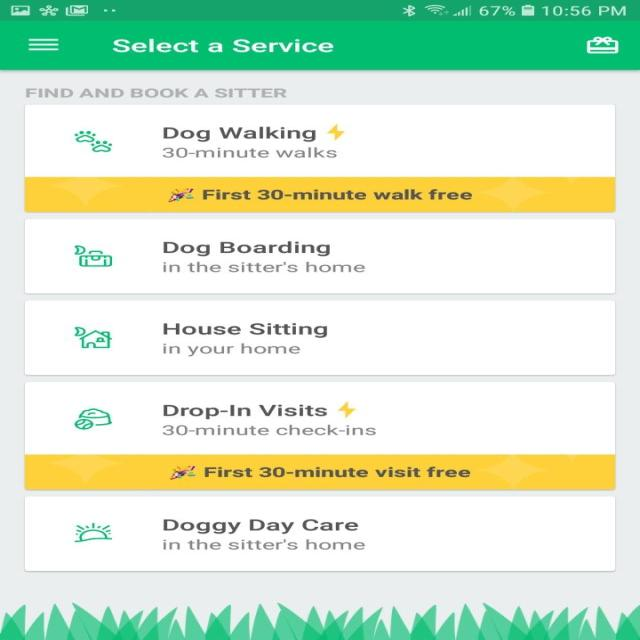Icon: (74, 326, 112, 348), (75, 244, 113, 266), (585, 36, 618, 54), (27, 38, 59, 51)
Image: (0, 602, 639, 639), (74, 130, 113, 152), (72, 521, 112, 542), (74, 408, 112, 430), (168, 466, 196, 480), (167, 188, 194, 202), (336, 401, 356, 418), (326, 124, 344, 140)
Text: (202, 188, 472, 200), (162, 518, 358, 534), (112, 39, 334, 53), (204, 467, 471, 478), (162, 322, 328, 338), (25, 88, 287, 98), (162, 241, 330, 256), (162, 404, 328, 419), (162, 126, 316, 142), (162, 261, 366, 273), (162, 538, 366, 550), (162, 424, 376, 435), (162, 342, 300, 357), (162, 147, 337, 158)
